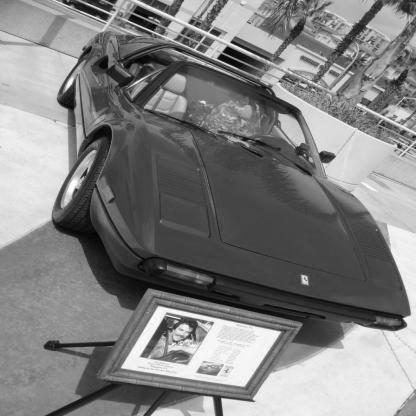car: (45, 23, 416, 366)
